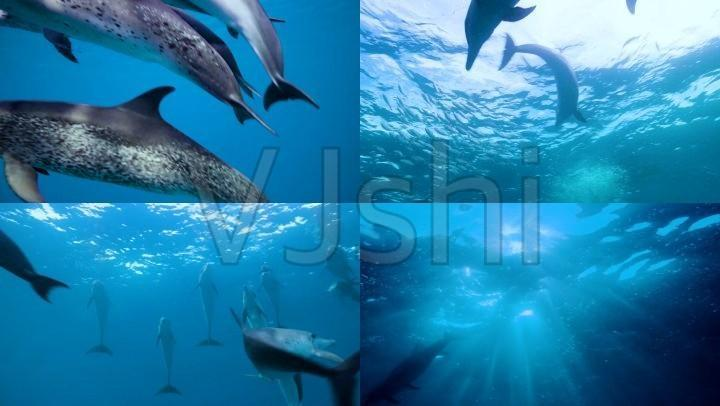fish: (2, 94, 287, 223), (236, 314, 362, 401), (497, 31, 589, 127), (453, 1, 538, 76), (191, 259, 224, 347), (83, 278, 118, 358), (155, 314, 187, 395), (258, 263, 290, 329)
